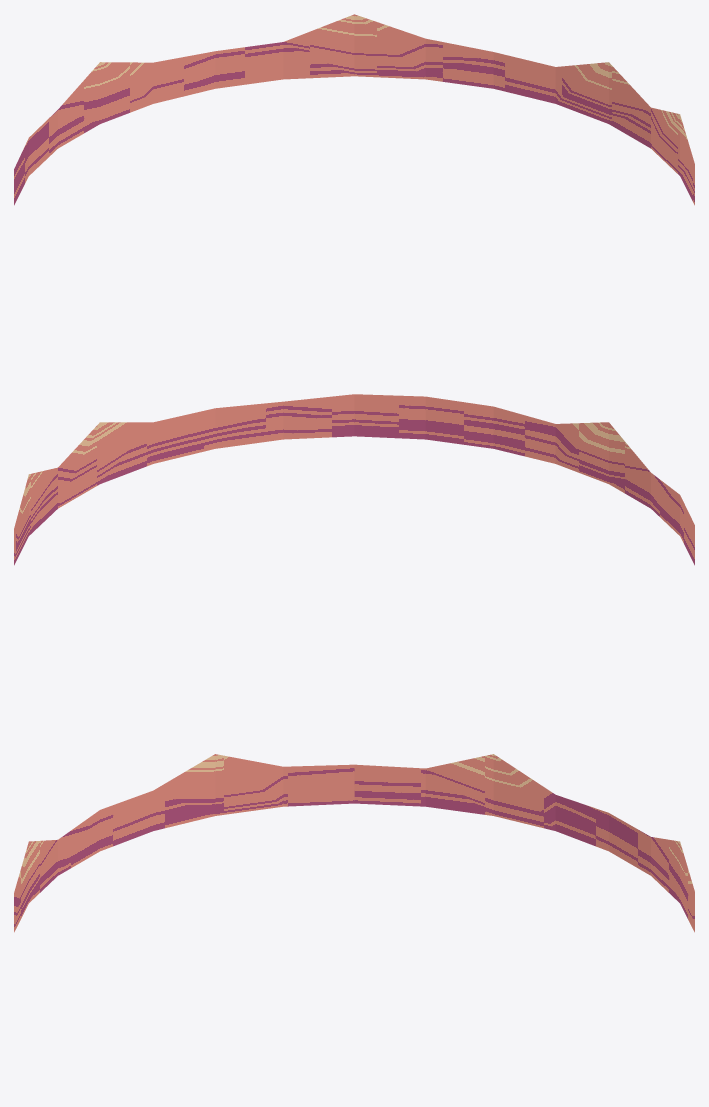
Rendered from skyx.horizon__spires.glb.
3 views of the same model, one above another, from view 1: azimuth 30°, elevation 25°; view 2: azimuth 150°, elevation 25°; view 3: azimuth 270°, elevation 25° (orthographic).
Visible parts, largest first — view 1: kit_shell_horizon; view 2: kit_shell_horizon; view 3: kit_shell_horizon.
Boxes of the visible parts, x1,y1,x2,y2 form: kit_shell_horizon: (14, 14, 694, 205); kit_shell_horizon: (14, 394, 694, 565); kit_shell_horizon: (14, 754, 694, 932).
Bounding box in the file's own units: 180 × 18 × 179.
1 material, 1 textured.
